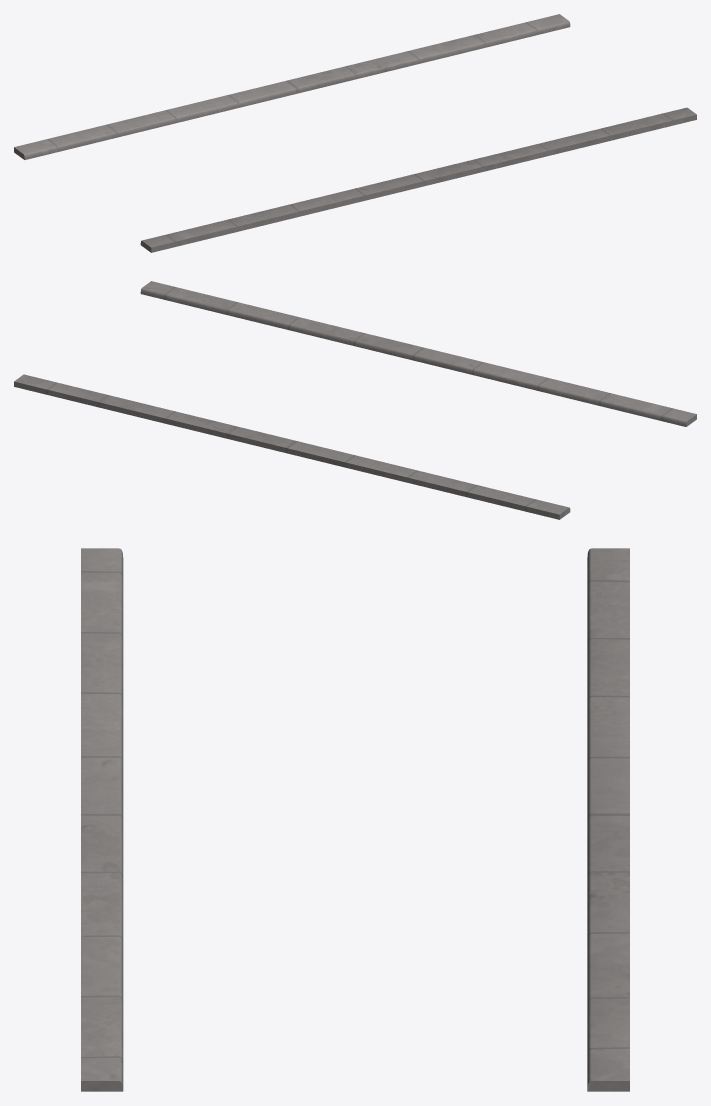
The model's file is Long_SideWalks.fbx.
3 views of the same model, one above another, from view 1: azimuth 30°, elevation 25°; view 2: azimuth 150°, elevation 25°; view 3: azimuth 270°, elevation 25° (orthographic). The views are drawn at different scales.
Parts seen in each view (by area): view 1: Long_SideWalks; view 2: Long_SideWalks; view 3: Long_SideWalks.
Boxes of the visible parts, x1,y1,x2,y2 form: Long_SideWalks: (14,14,696,252); Long_SideWalks: (14,281,696,519); Long_SideWalks: (81,548,629,1091).
Bounding box in the file's own units: 1299 × 566 × 11.98.
